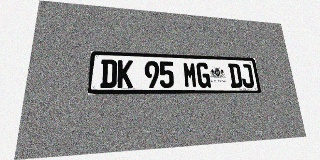5: (159, 61, 174, 88)
9: (145, 61, 160, 88)
D: (100, 59, 117, 88), (228, 63, 243, 88)
G: (196, 62, 211, 88)
J: (240, 64, 254, 88)
K: (117, 60, 133, 88)
M: (183, 62, 198, 88)
